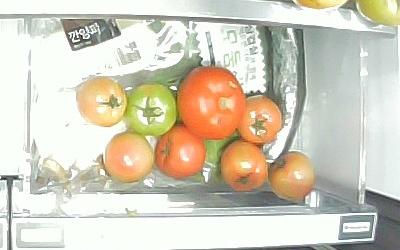tomato: (175, 65, 246, 139), (76, 77, 129, 128), (102, 131, 155, 182), (219, 140, 269, 194), (156, 122, 205, 176), (126, 84, 177, 135), (270, 150, 318, 204), (238, 95, 284, 144)
